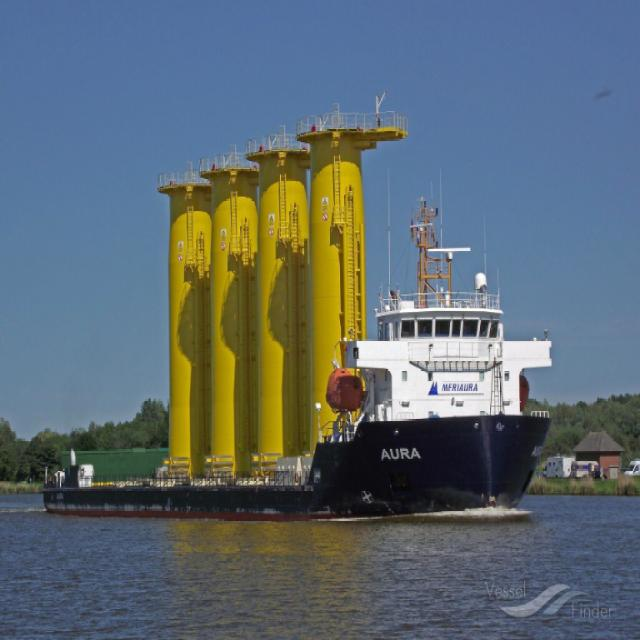OCR: (371, 441, 427, 466), (441, 378, 482, 398)
